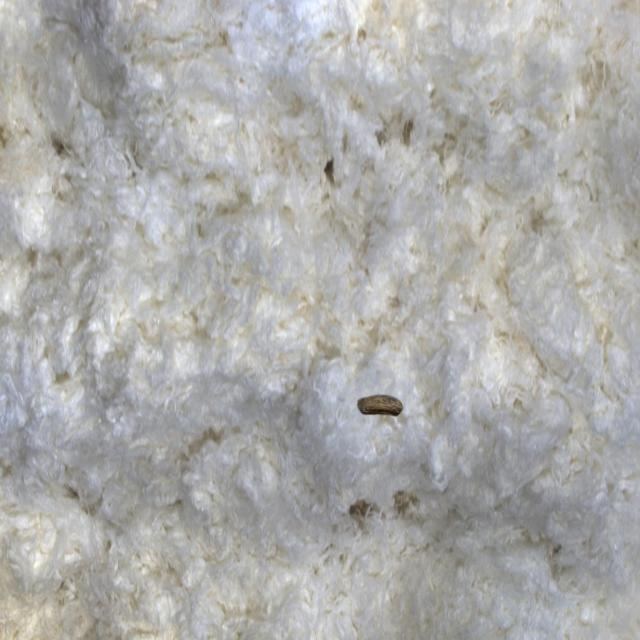dust: (338, 357, 419, 462)
